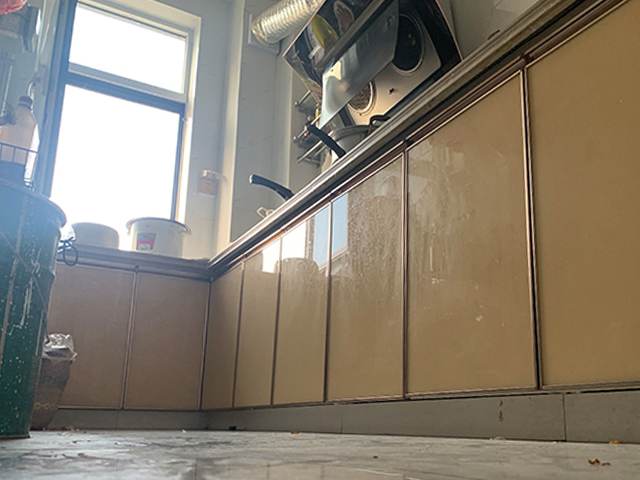cabinet: (213, 181, 640, 444), (48, 254, 213, 433)
